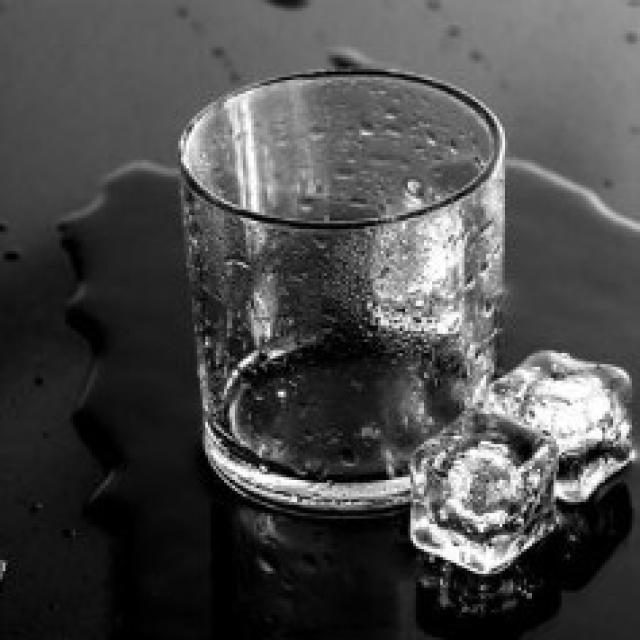electronic: (175, 61, 515, 519)
